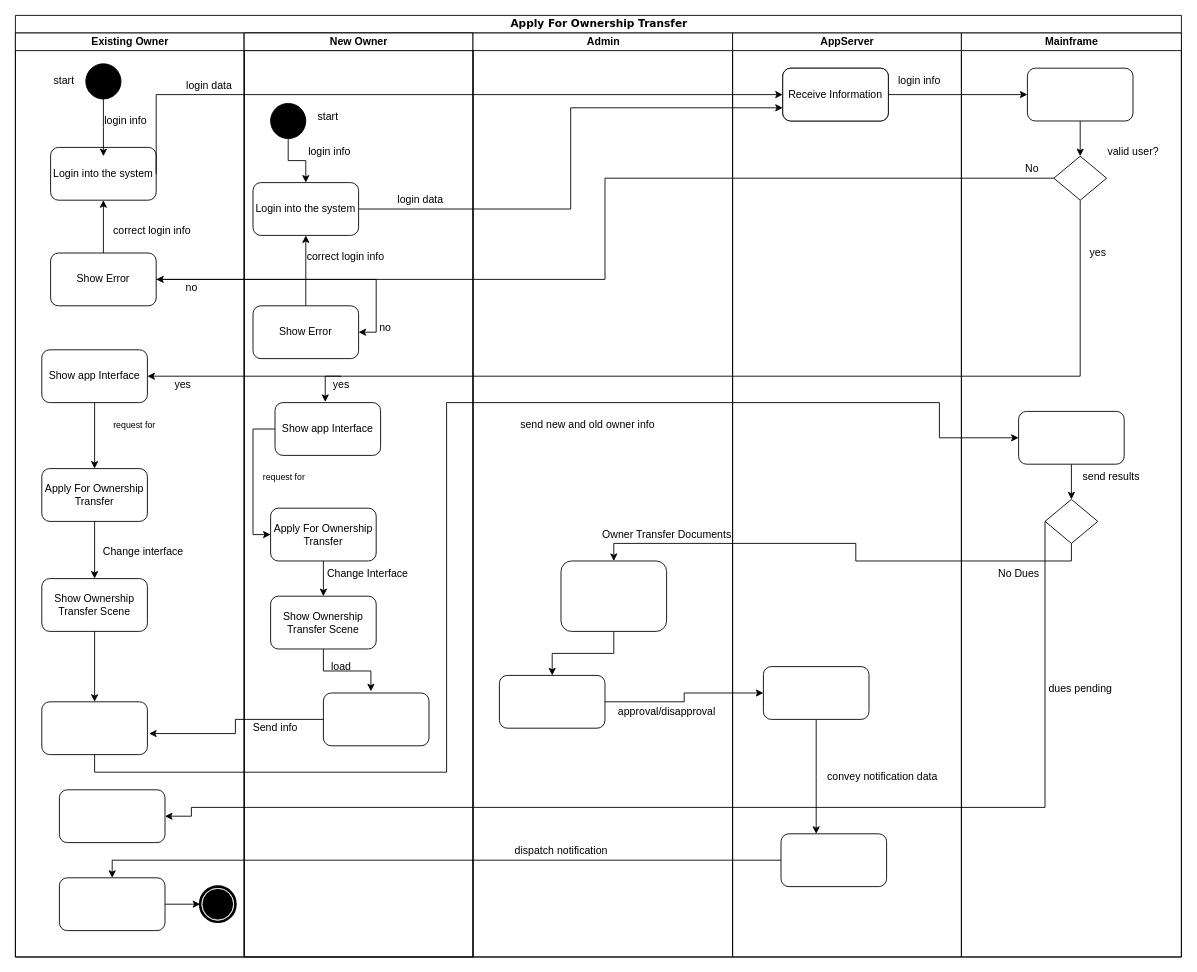
This 1197x972 diagram has some shape labels left out. The centre of each missing label's shape, as x and y in pixels:
Accept/ Reject Ownership Transfer and Update Database if Transfer is Accepted.: point 552,701
Check records: point 1080,94
Look up Existing Owner's userID To Check For Any Remaining Dues in Database: point 1071,437
Make Payments and Get Receipt: point 112,816
Process Ownership Transfer and Verify Documents: point 613,595
Receive Result: point 112,904
Save in Database: point 816,692
Send Notification: point 833,860
Send Ownership Transfer Information: point 376,719
Type New and Existing Owner's Details Required For Ownership Transfer: point 94,728
